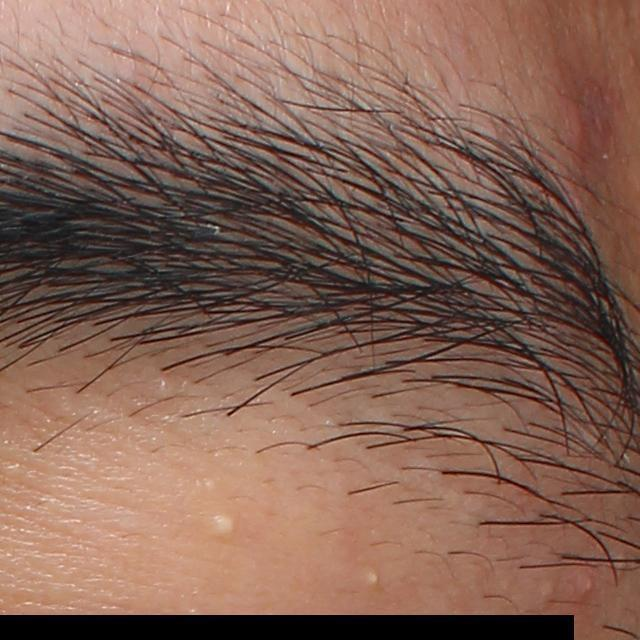other: (208, 507, 237, 538), (364, 568, 380, 590)
